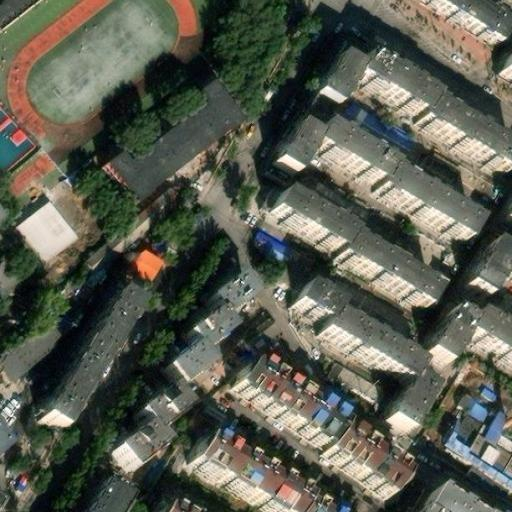building: (93, 66, 242, 200), (36, 294, 130, 432), (181, 438, 314, 512), (228, 363, 335, 452), (367, 175, 467, 250), (331, 239, 431, 313), (407, 107, 505, 180), (315, 315, 413, 387), (315, 431, 397, 501), (339, 58, 423, 125), (298, 130, 382, 196), (264, 193, 347, 257), (344, 104, 414, 161), (457, 412, 512, 483), (12, 203, 73, 265), (452, 315, 512, 372), (2, 146, 59, 200), (322, 354, 384, 403), (379, 379, 428, 437), (414, 311, 461, 369), (460, 240, 508, 296), (100, 415, 153, 464), (120, 240, 168, 289), (302, 62, 345, 112), (197, 272, 244, 317), (264, 133, 304, 184), (128, 383, 174, 426), (155, 340, 201, 382), (287, 283, 333, 325), (178, 308, 221, 349), (247, 231, 290, 269), (448, 396, 493, 431), (287, 104, 326, 143), (446, 420, 483, 458), (410, 488, 463, 512), (77, 485, 122, 512), (151, 493, 203, 512), (0, 408, 19, 454), (327, 43, 357, 72), (494, 451, 512, 494), (493, 57, 512, 90), (500, 194, 512, 222)
